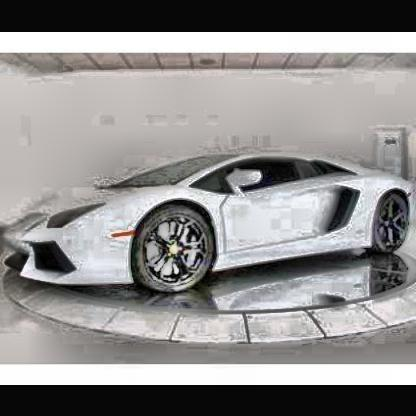Lamborghini Aventador Coupe 2012: (5, 155, 413, 294)
